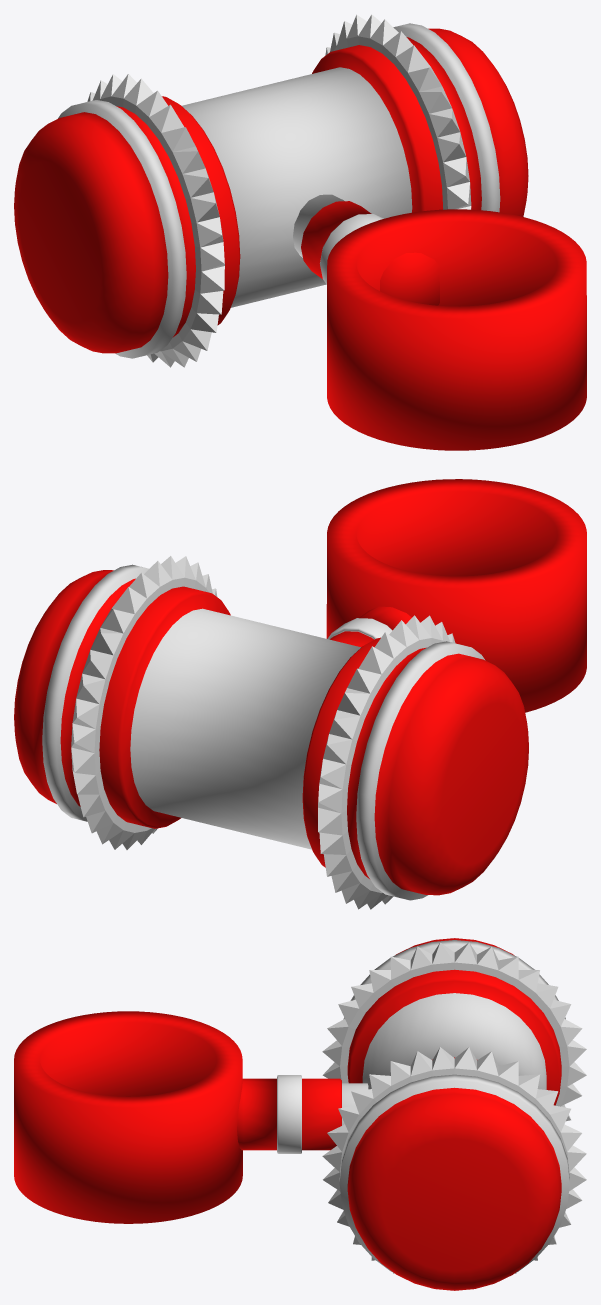
Rendered from Hammer_Spike_Bouncer_Rotative_Small_Red.glb.
3 renders of one model, top to bottom at view 1: azimuth 30°, elevation 25°; view 2: azimuth 150°, elevation 25°; view 3: azimuth 270°, elevation 25°, orthographic. The views are drawn at different scales.
Visible parts, largest first — view 1: Hammer_Spike_Bouncer_Rotative_Small_Red; view 2: Hammer_Spike_Bouncer_Rotative_Small_Red; view 3: Hammer_Spike_Bouncer_Rotative_Small_Red.
Part boxes in pixels (<box>): Hammer_Spike_Bouncer_Rotative_Small_Red: <box>14,14,586,450</box>; Hammer_Spike_Bouncer_Rotative_Small_Red: <box>14,479,586,909</box>; Hammer_Spike_Bouncer_Rotative_Small_Red: <box>14,938,586,1290</box>.
Size of the model in its own units: 4.01 by 2.47 by 5.35.
